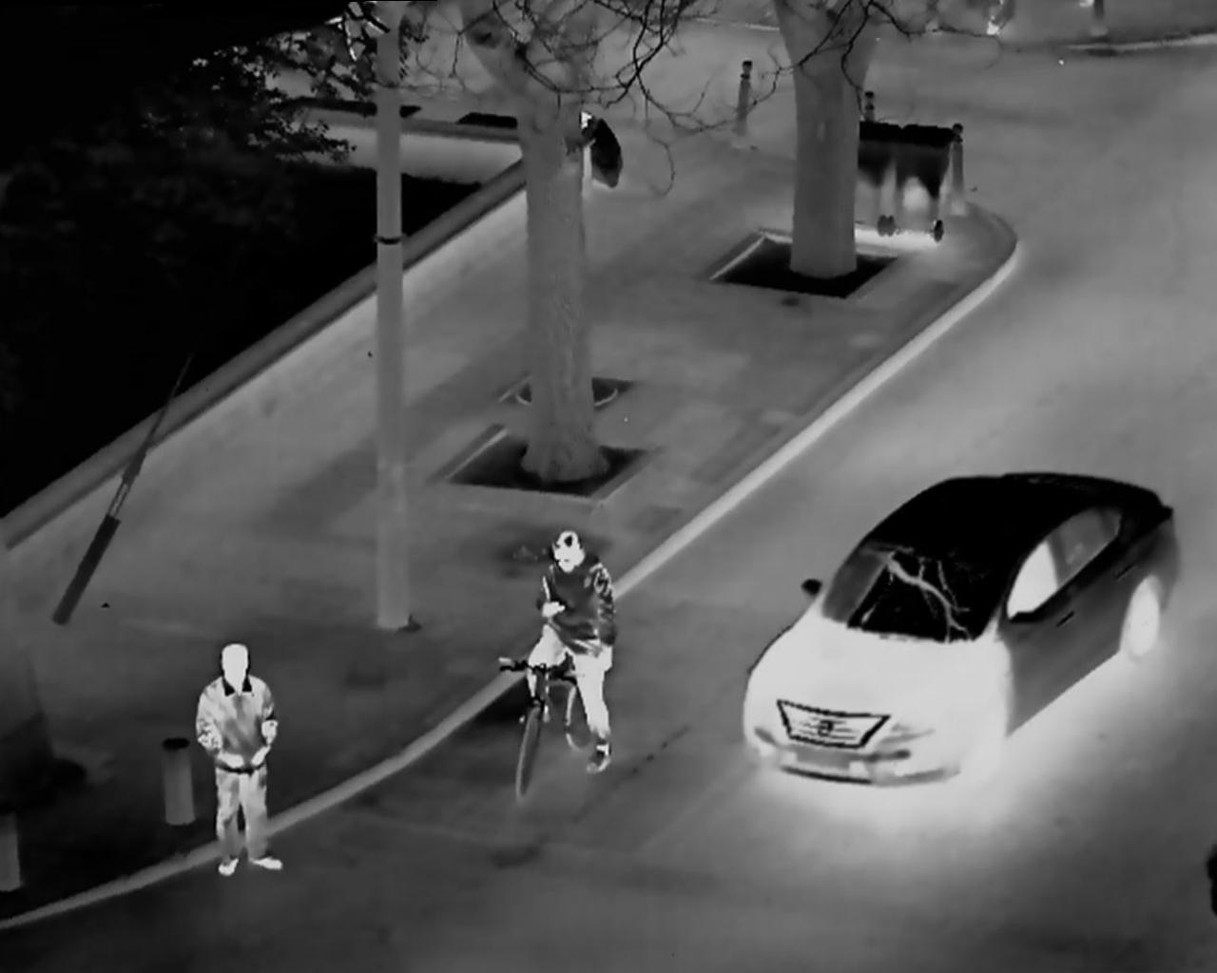person: (505, 525, 626, 793), (183, 630, 304, 888)
